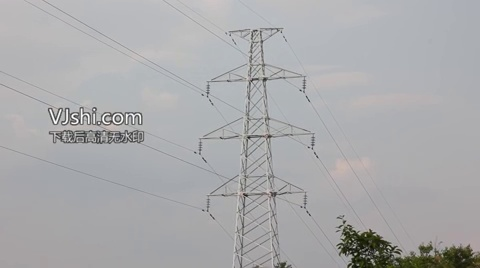tower_body: (205, 18, 316, 268)
tower_foot: (229, 220, 283, 266)
tower_head: (226, 24, 286, 45)
